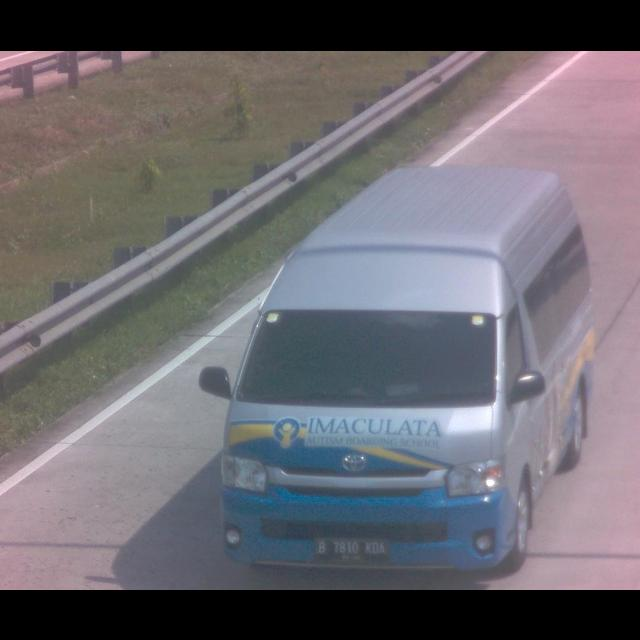plate: (314, 533, 392, 563)
